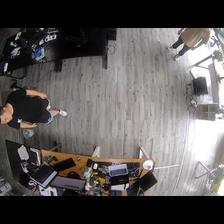normal: (1, 88, 69, 128)
